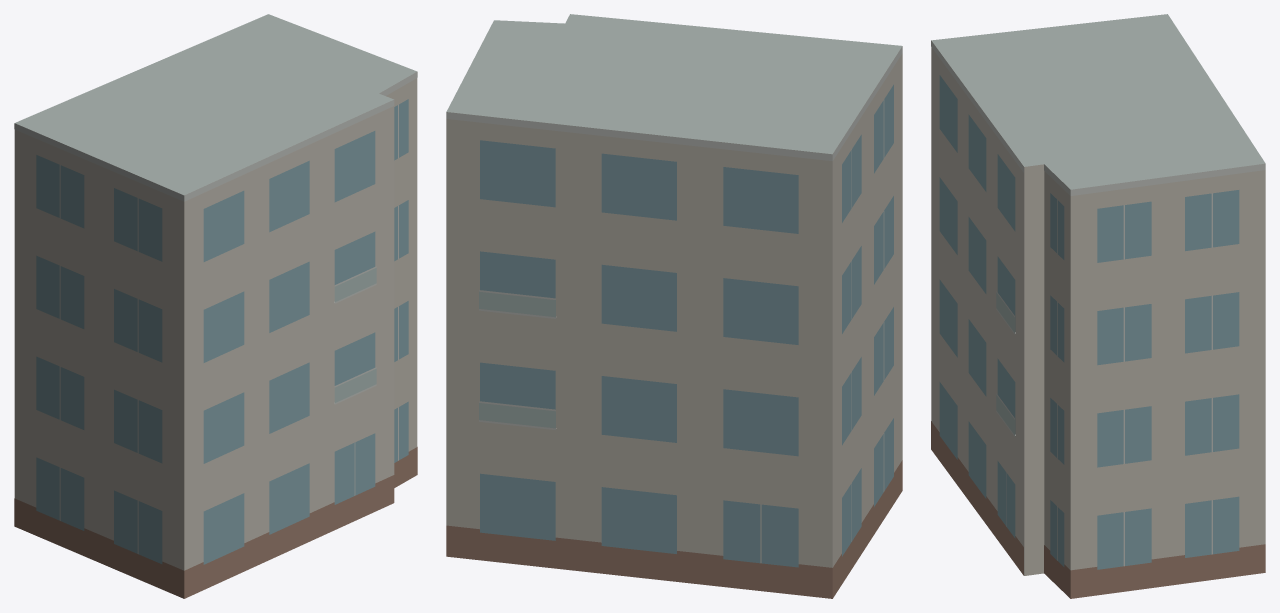
The model's file is survey-upis-32599594.glb.
The picture shows the model from 3 angles, left to right: view 1: azimuth 30°, elevation 25°; view 2: azimuth 150°, elevation 25°; view 3: azimuth 270°, elevation 25°; orthographic projection. The views are drawn at different scales.
Parts seen in each view (by area): view 1: survey-upis-32599594.tmp; view 2: survey-upis-32599594.tmp; view 3: survey-upis-32599594.tmp.
Part boxes in pixels (bbox=[...]): survey-upis-32599594.tmp: bbox=[14, 14, 417, 598]; survey-upis-32599594.tmp: bbox=[446, 14, 902, 598]; survey-upis-32599594.tmp: bbox=[931, 14, 1265, 598].
Size of the model in its own units: 14.34 by 15.56 by 11.54.
